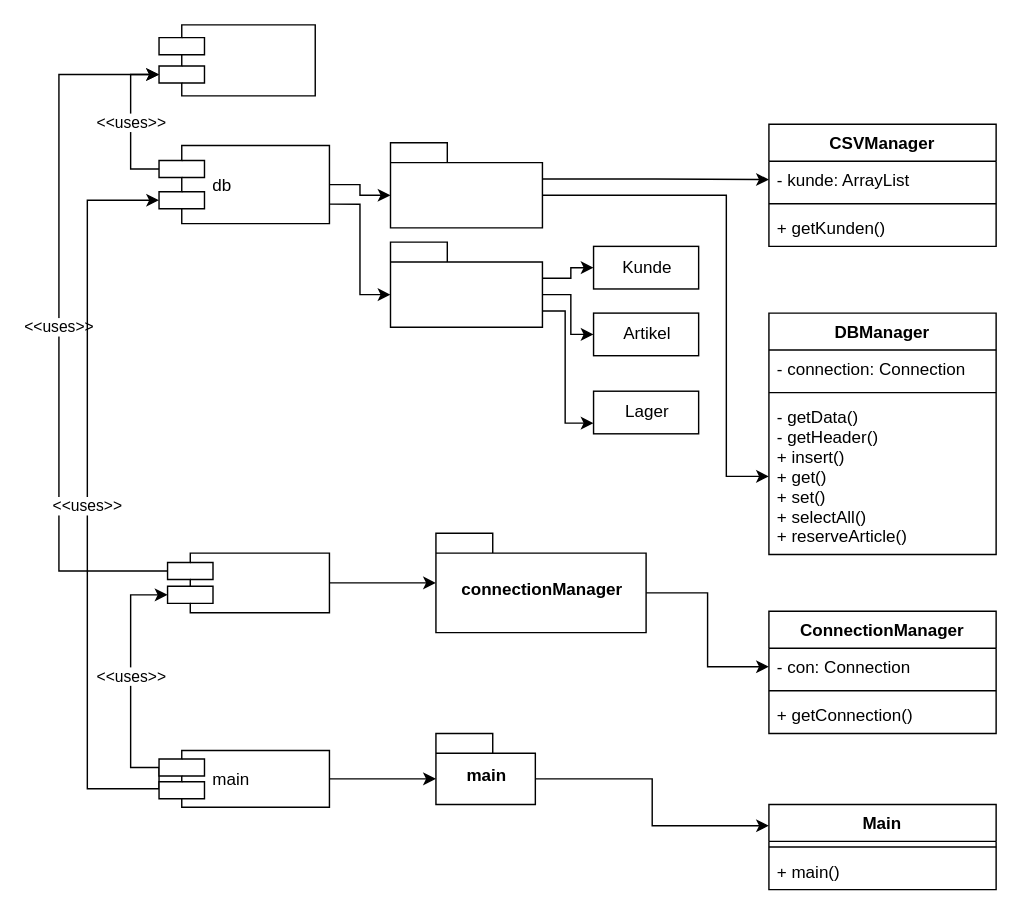
Image size: 1021x919. Some labels were removed from this diagram. The centre of each missing label's shape, as x and y in pixels:
connect: the point at 247,582
dbOjekte: the point at 465,284
java.sql: the point at 236,59
manager: the point at 465,184
